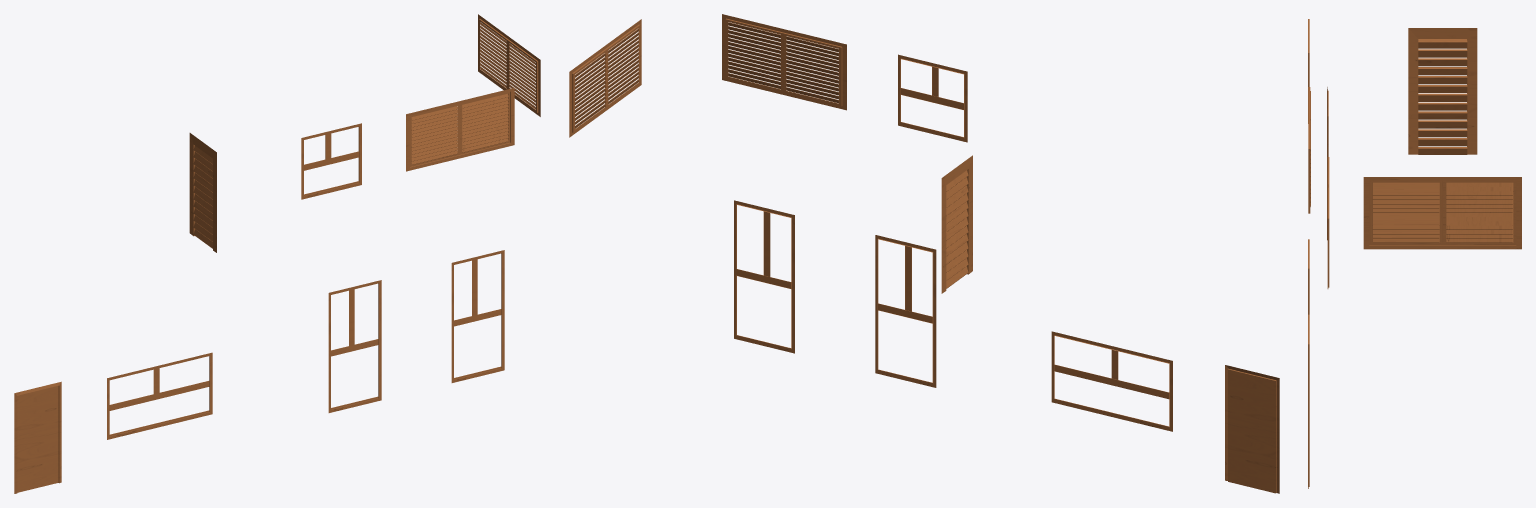
Rendered from buildig.002_wood_(shine)_0_lev3.glb.
The picture shows the model from 3 angles, left to right: view 1: azimuth 30°, elevation 25°; view 2: azimuth 150°, elevation 25°; view 3: azimuth 270°, elevation 25°; orthographic projection. The views are drawn at different scales.
Visible parts, largest first — view 1: buildig.002_wood_(shine)_0_lev3; view 2: buildig.002_wood_(shine)_0_lev3; view 3: buildig.002_wood_(shine)_0_lev3.
Part boxes in pixels (x1,y1,x2,y2): buildig.002_wood_(shine)_0_lev3: (14,14,540,493); buildig.002_wood_(shine)_0_lev3: (569,14,1279,493); buildig.002_wood_(shine)_0_lev3: (1308,19,1521,488).
Size of the model in its own units: 3.64 by 1.89 by 0.9906.
1 material, 1 textured.
